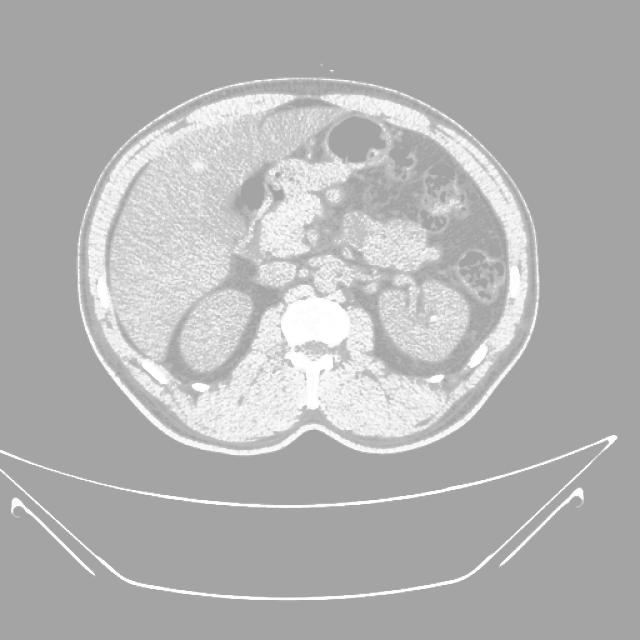STONE: (268, 59, 532, 295)
